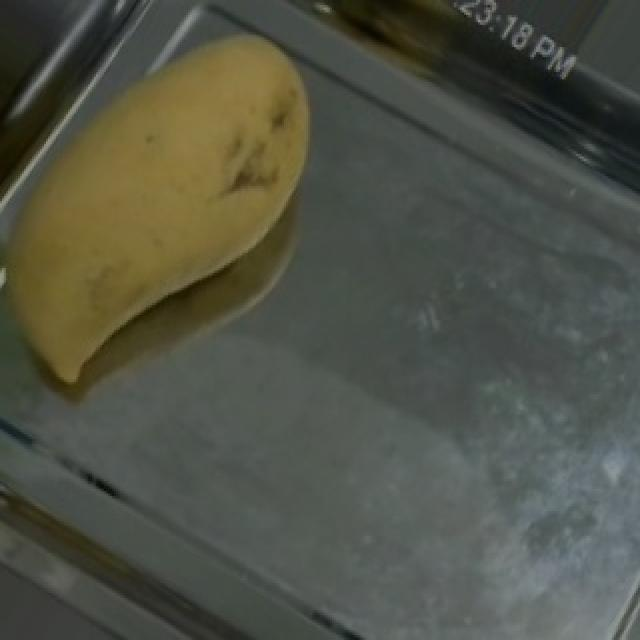fruit: (26, 0, 380, 372)
